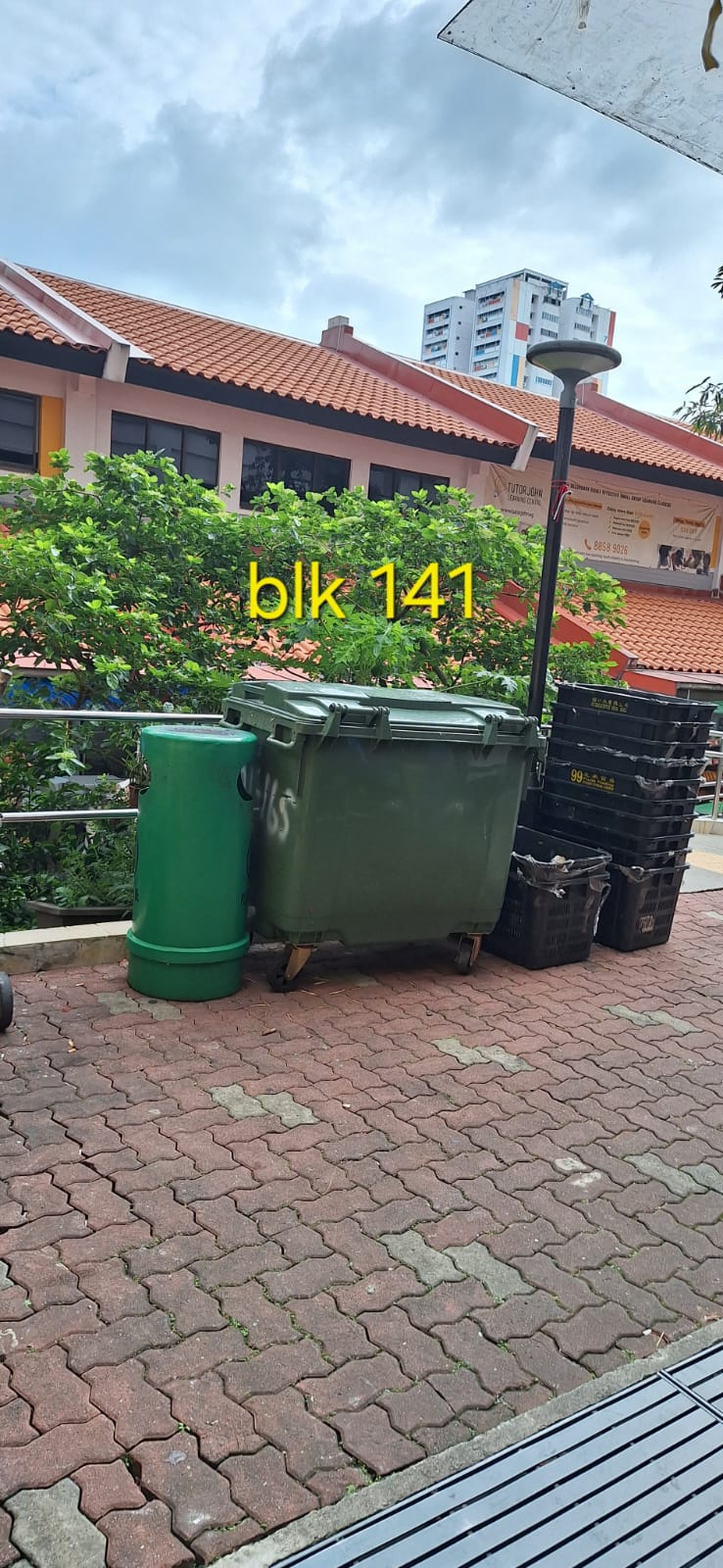bin_empty: (220, 679, 539, 990), (126, 724, 256, 1002)
bulk_waste: (535, 683, 712, 951), (486, 826, 609, 969)
